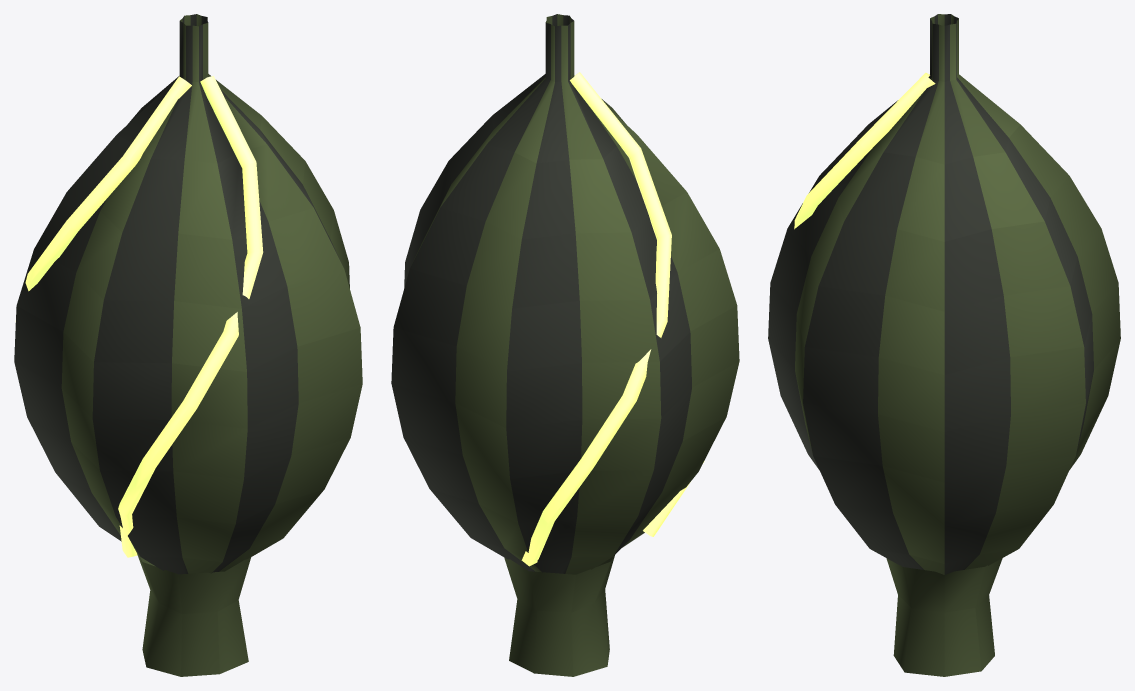
File: obj_capullo.glb
3 renders of one model, left to right at view 1: azimuth 30°, elevation 25°; view 2: azimuth 150°, elevation 25°; view 3: azimuth 270°, elevation 25°, orthographic.
Visible parts, largest first — view 1: propforge-libre-capullo; view 2: propforge-libre-capullo; view 3: propforge-libre-capullo.
Part boxes in pixels (bbox=[...]): propforge-libre-capullo: bbox=[14, 14, 362, 676]; propforge-libre-capullo: bbox=[391, 14, 739, 676]; propforge-libre-capullo: bbox=[768, 14, 1120, 676].
Bounding box in the file's own units: 0.461 × 0.9406 × 0.4729.
